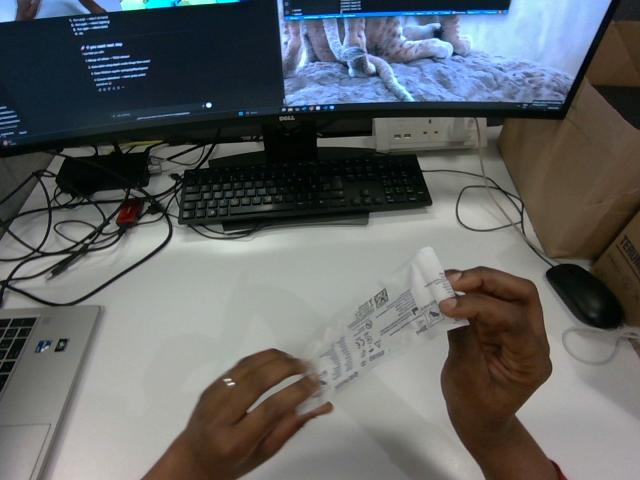syringe: (298, 247, 467, 412)
